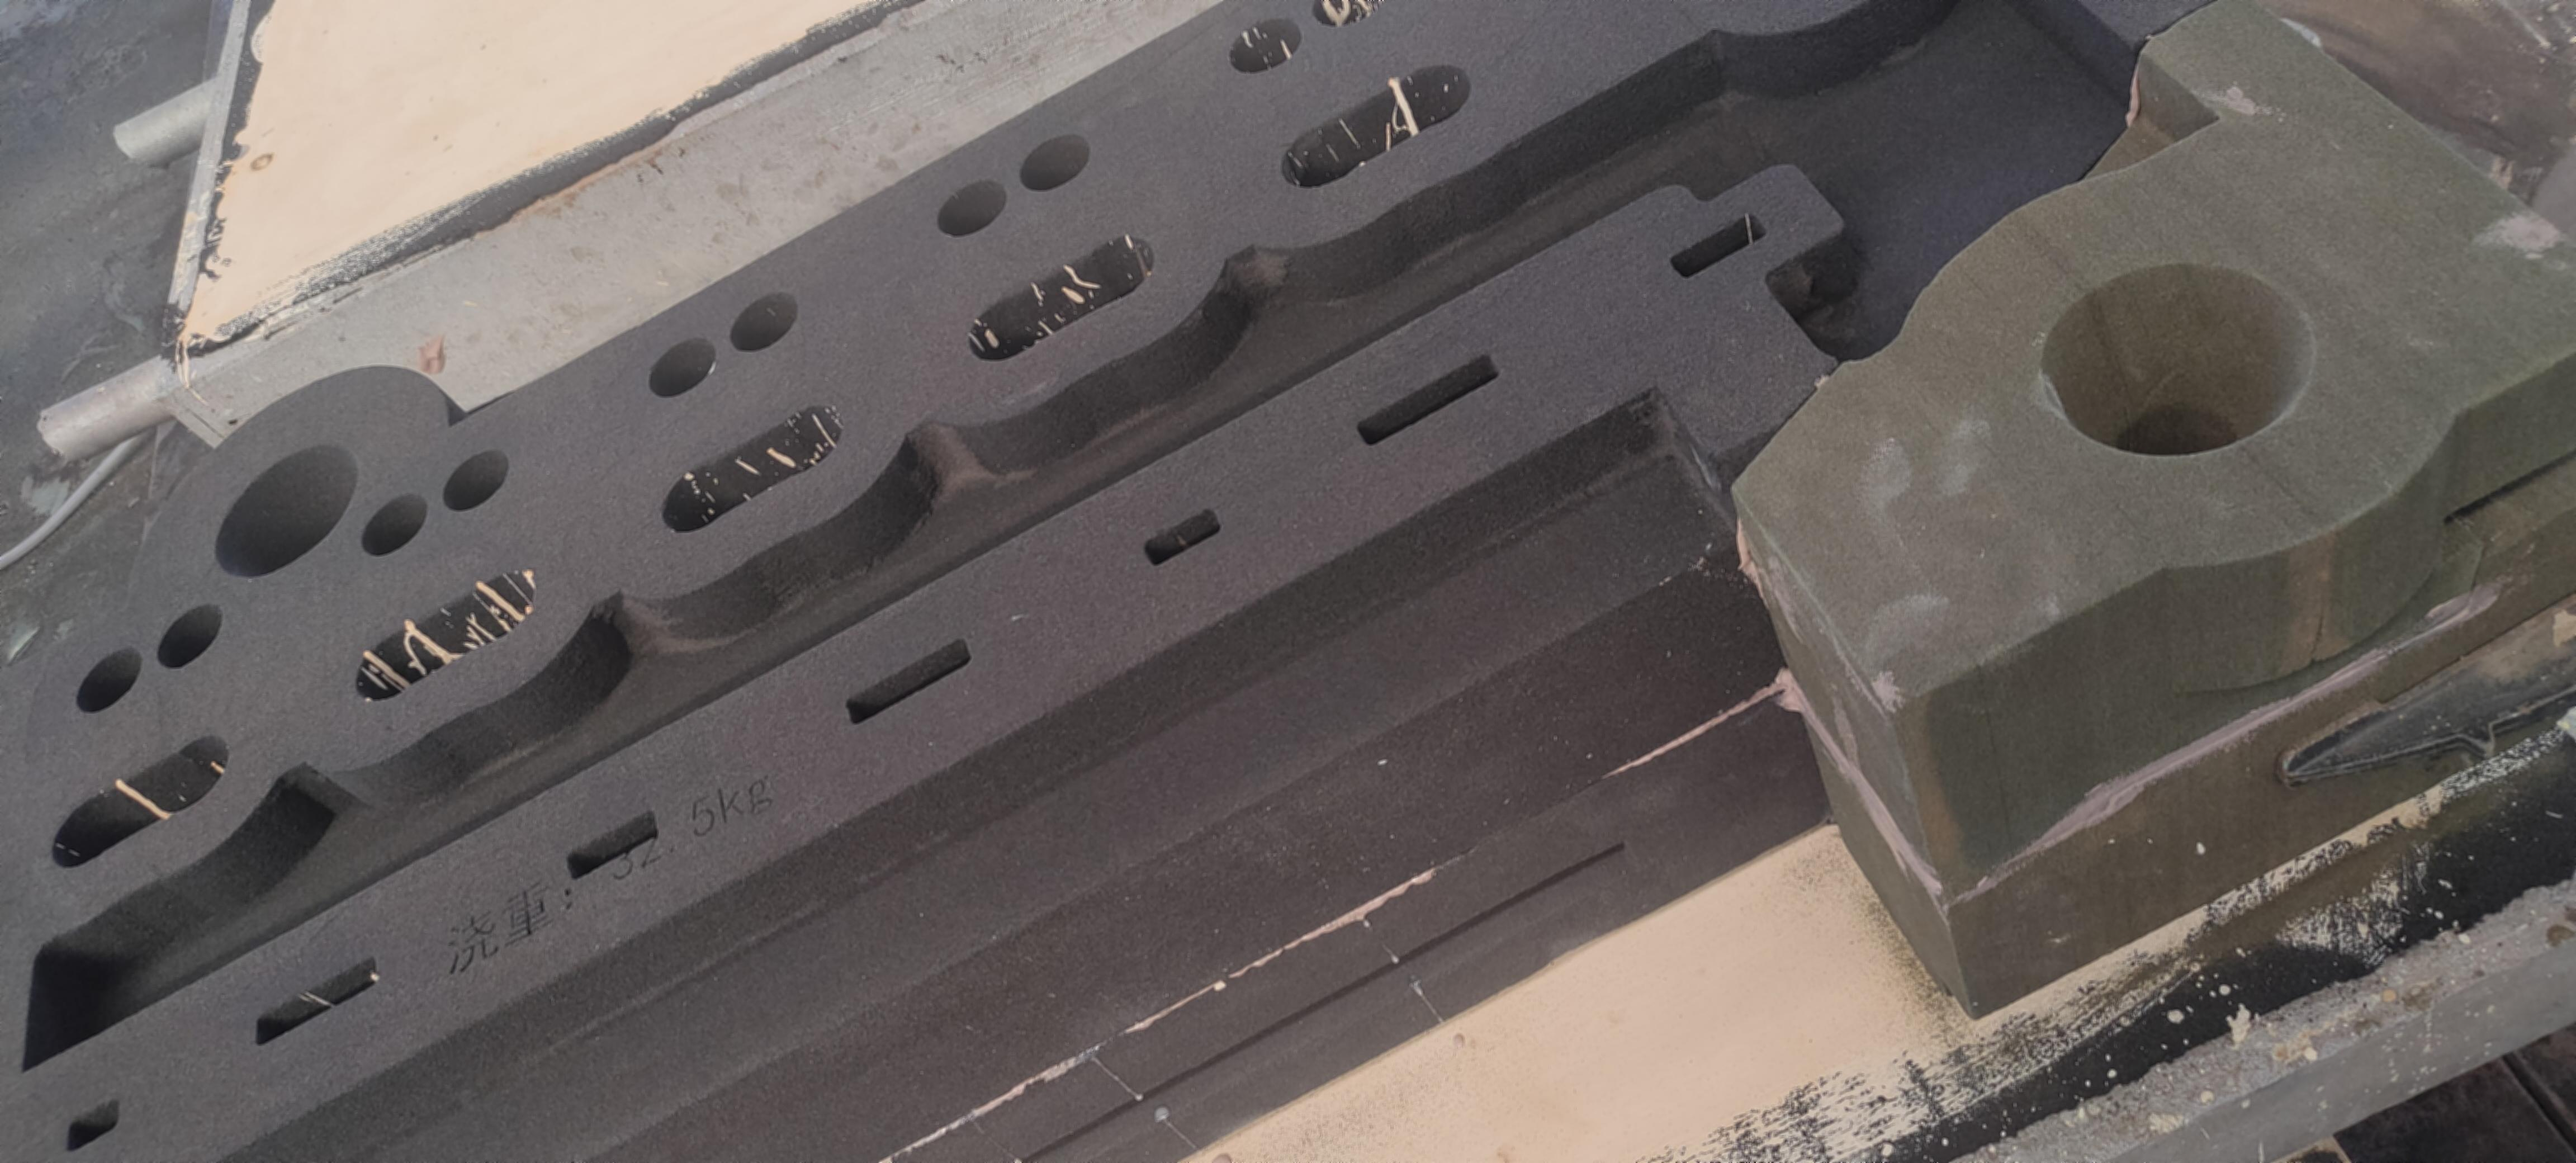pouring hole: (2039, 261, 2316, 458), (214, 444, 358, 580)
